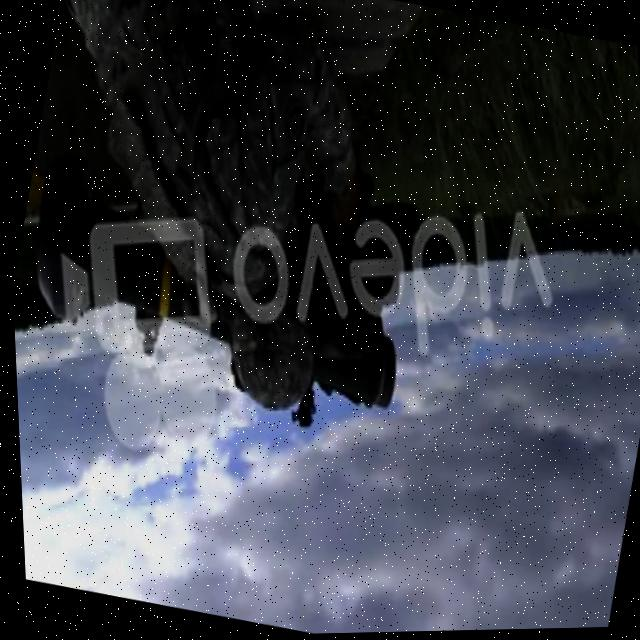rocket: (3, 79, 455, 500)
